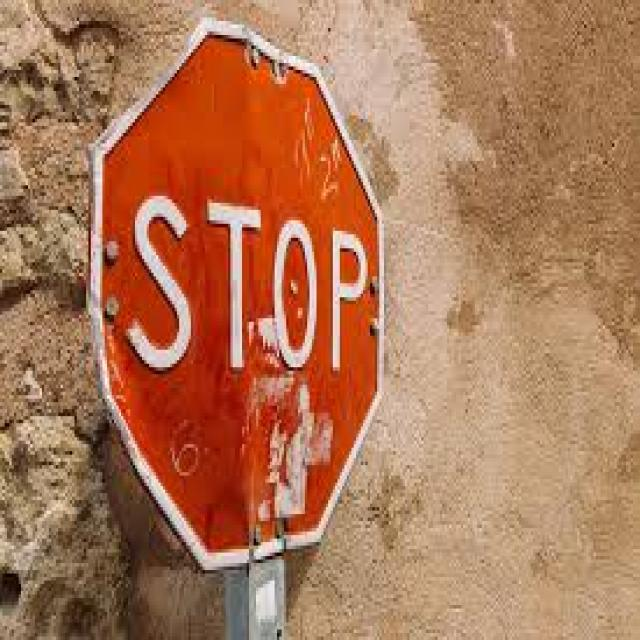stop-sign: (135, 152, 398, 448)
